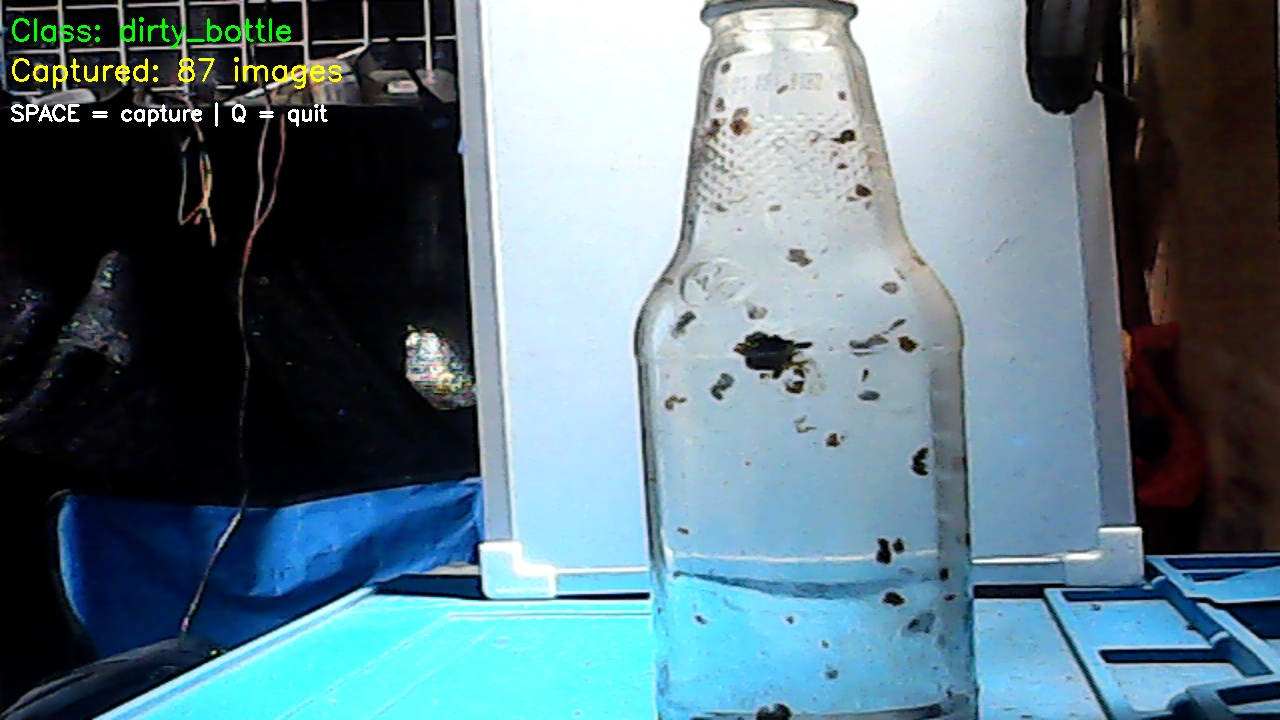dirty_bottle: (626, 4, 989, 720)
